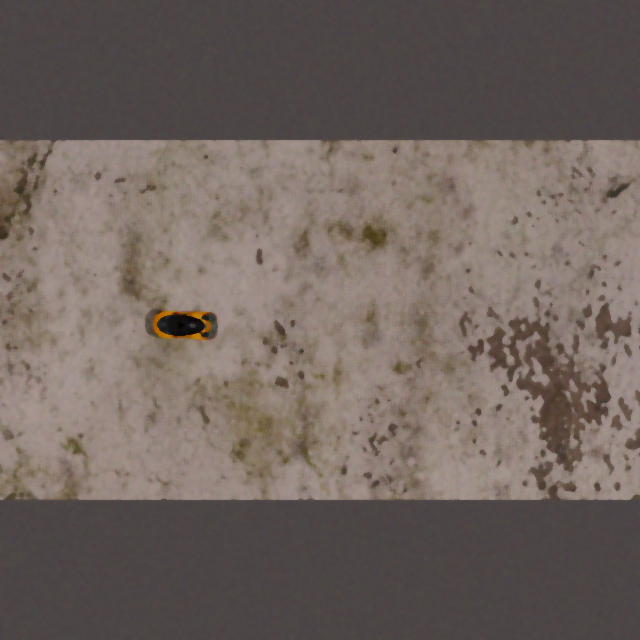car: (148, 308, 220, 341)
